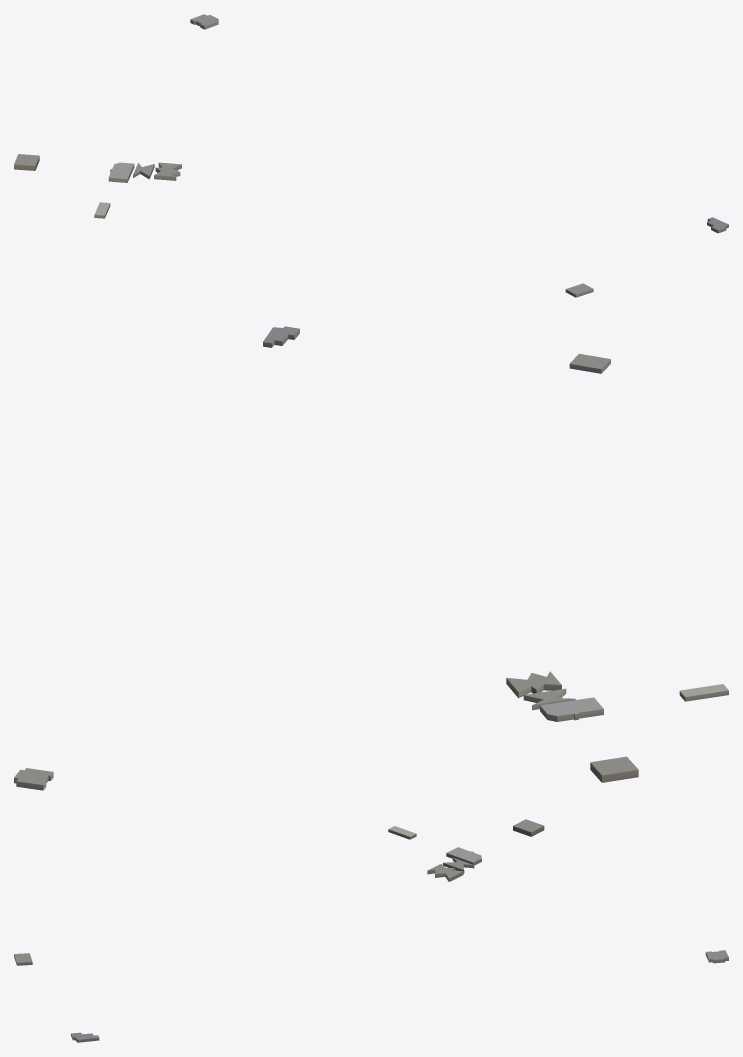
Rendered from bld_12_7.fbx.
3 views of the same model, one above another, from view 1: azimuth 30°, elevation 25°; view 2: azimuth 150°, elevation 25°; view 3: azimuth 270°, elevation 25° (orthographic). The views are drawn at different scales.
Visible parts, largest first — view 1: bld_12_7_LOD0; view 2: bld_12_7_LOD0; view 3: bld_12_7_LOD0.
Part boxes in pixels (x1=…): bld_12_7_LOD0: x1=14, y1=14, x2=728, y2=297; bld_12_7_LOD0: x1=14, y1=326, x2=728, y2=790; bld_12_7_LOD0: x1=14, y1=819, x2=728, y2=1042.
Size of the model in its own units: 1328 by 12.98 by 1833.
